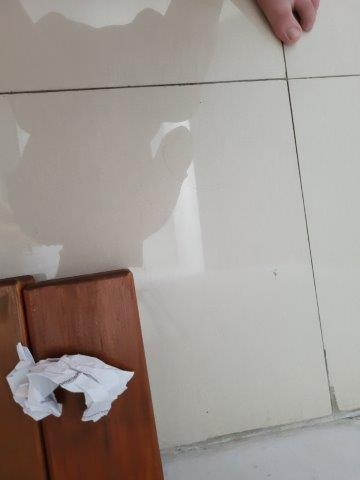kertas: (6, 341, 136, 423)
